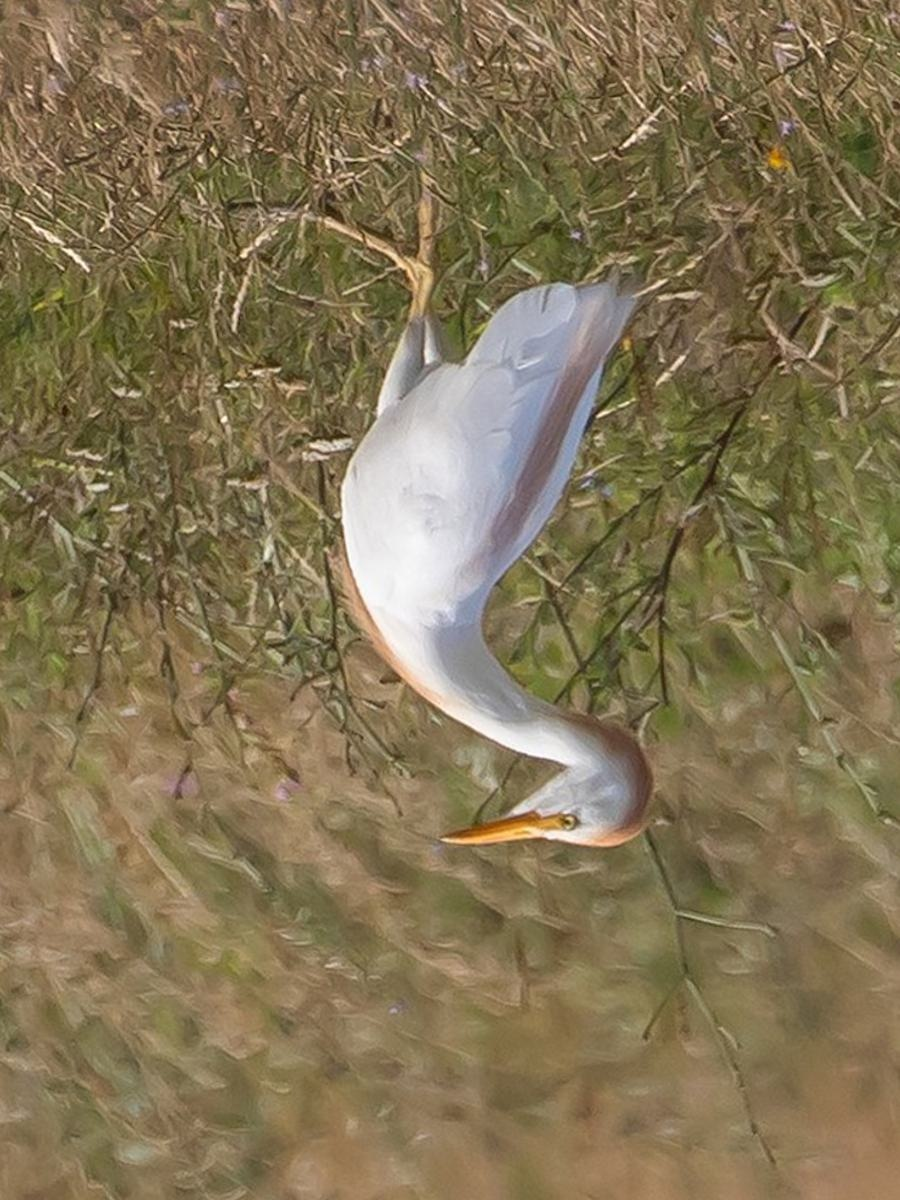egret: (318, 182, 689, 876)
